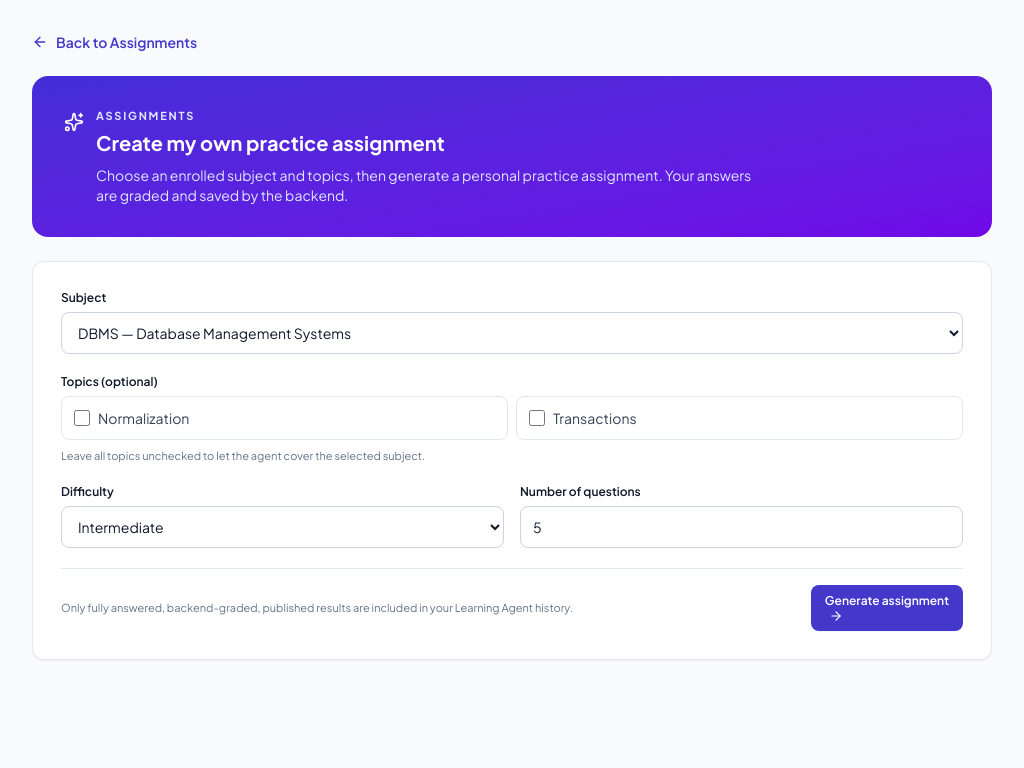
Scenario: Assignment Generation Agent workflow › reports provider errors and keeps the generation form available for retry
The width and height of the screenshot is (1024, 768).
Click the button "Generate assignment": (887, 608) [811,585,963,631]
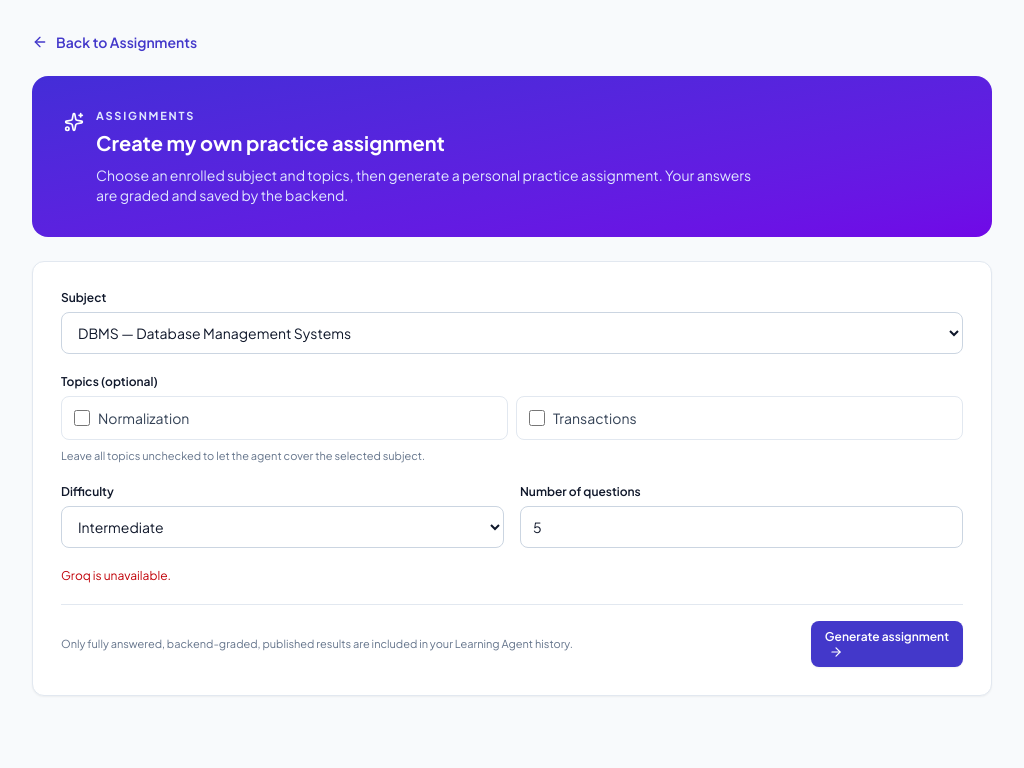
Expected: the dropdown labelled "Subject" is shown, [61,312,963,354]
Now the message reads "Groq is unavailable.", box [61,568,171,583]
